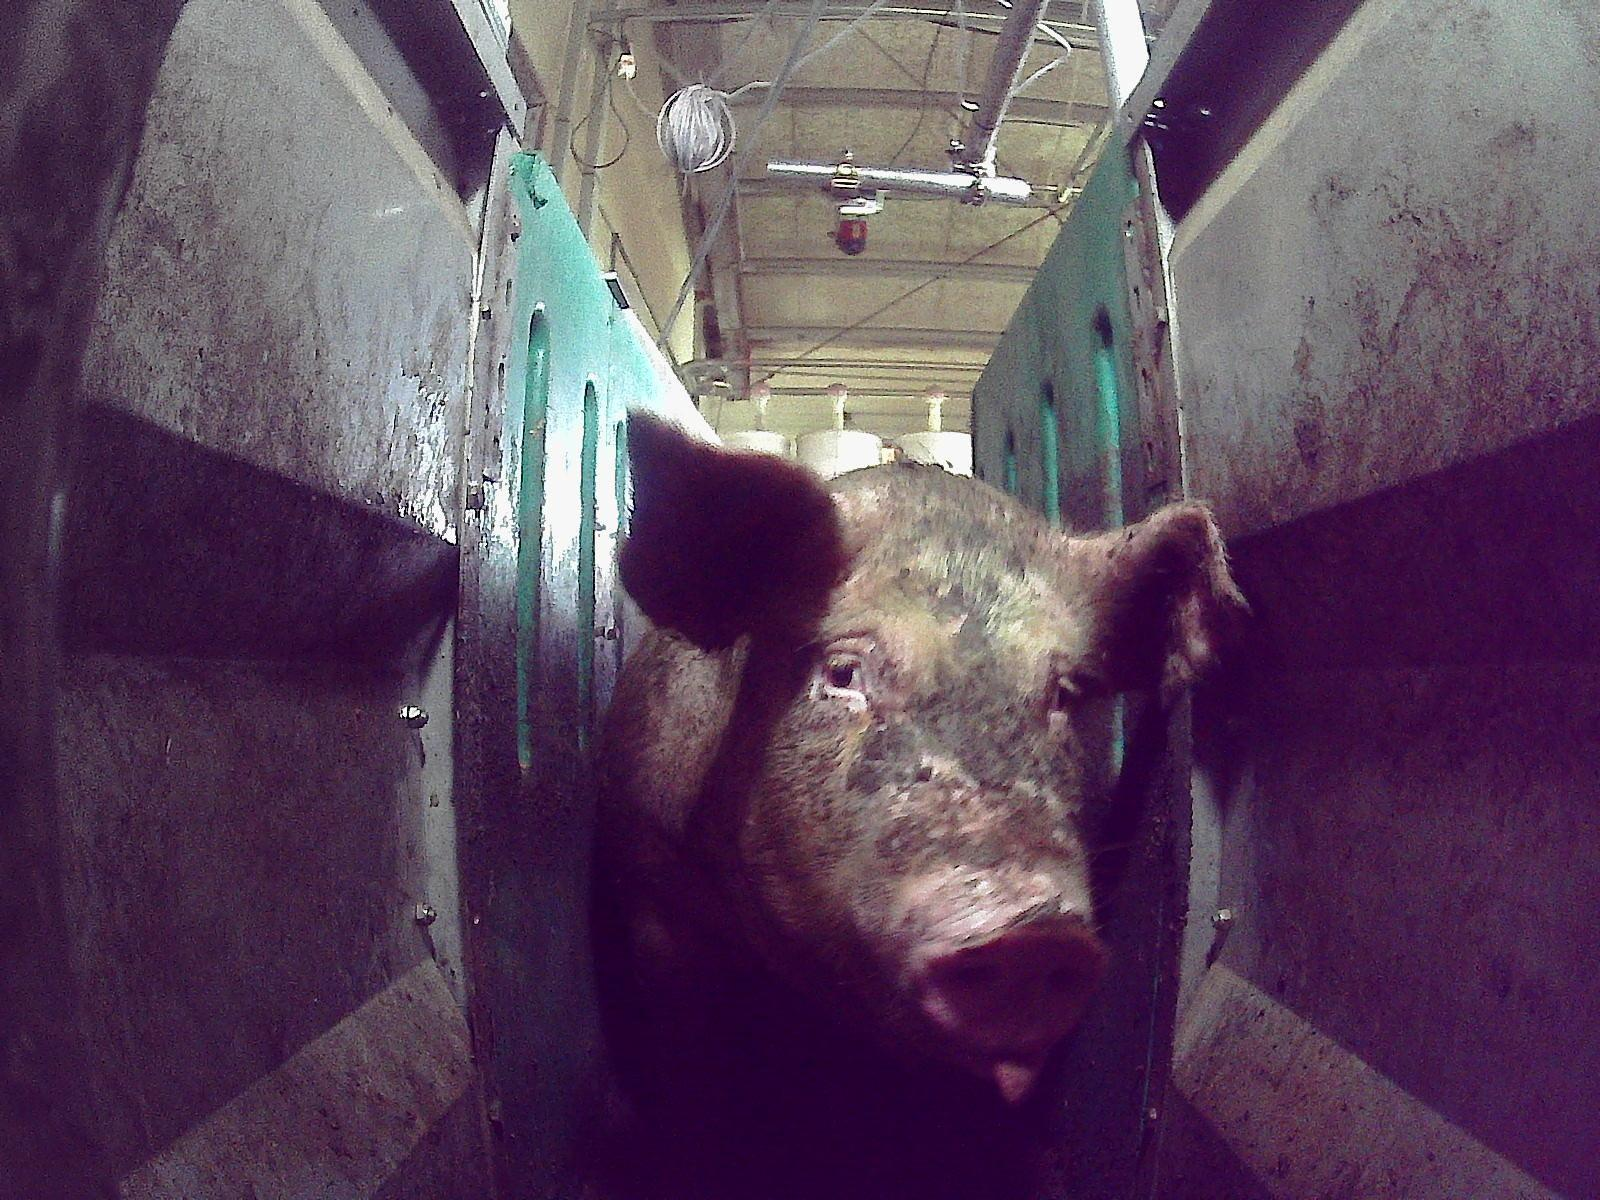Face: (721, 495, 1121, 1101)
